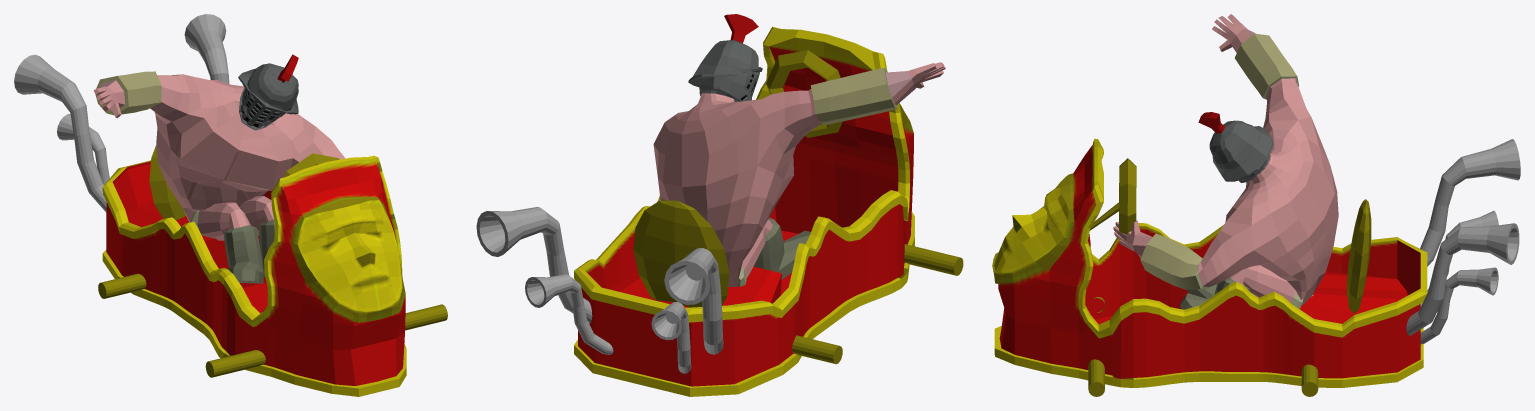
The model's file is gladiVacile_000548.obj.
The picture shows the model from 3 angles, left to right: view 1: azimuth 30°, elevation 25°; view 2: azimuth 150°, elevation 25°; view 3: azimuth 270°, elevation 25°; orthographic projection. The views are drawn at different scales.
Visible parts, largest first — view 1: GladiChasis_GladiChasisH, Gadiador_Gladiador_H.001, GladiTubos_GladiTubosH, GladiVolante_GladiVolanteH; view 2: GladiChasis_GladiChasisH, Gadiador_Gladiador_H.001, GladiTubos_GladiTubosH, GladiVolante_GladiVolanteH; view 3: GladiChasis_GladiChasisH, Gadiador_Gladiador_H.001, GladiTubos_GladiTubosH, GladiVolante_GladiVolanteH.
Boxes of the visible parts, left/top/right/bottom form: GladiChasis_GladiChasisH: left=102, top=155, right=406, bottom=396; Gadiador_Gladiador_H.001: left=93, top=54, right=345, bottom=283; GladiTubos_GladiTubosH: left=14, top=14, right=229, bottom=212; GladiVolante_GladiVolanteH: left=98, top=145, right=447, bottom=377; GladiChasis_GladiChasisH: left=574, top=27, right=914, bottom=396; Gadiador_Gladiador_H.001: left=653, top=14, right=945, bottom=286; GladiTubos_GladiTubosH: left=476, top=207, right=723, bottom=373; GladiVolante_GladiVolanteH: left=633, top=50, right=963, bottom=364; GladiChasis_GladiChasisH: left=992, top=138, right=1427, bottom=387; Gadiador_Gladiador_H.001: left=1113, top=14, right=1338, bottom=309; GladiTubos_GladiTubosH: left=1406, top=139, right=1520, bottom=344; GladiVolante_GladiVolanteH: left=1088, top=158, right=1371, bottom=396.
Bounding box in the file's own units: 6.63 × 5.71 × 10.78.
